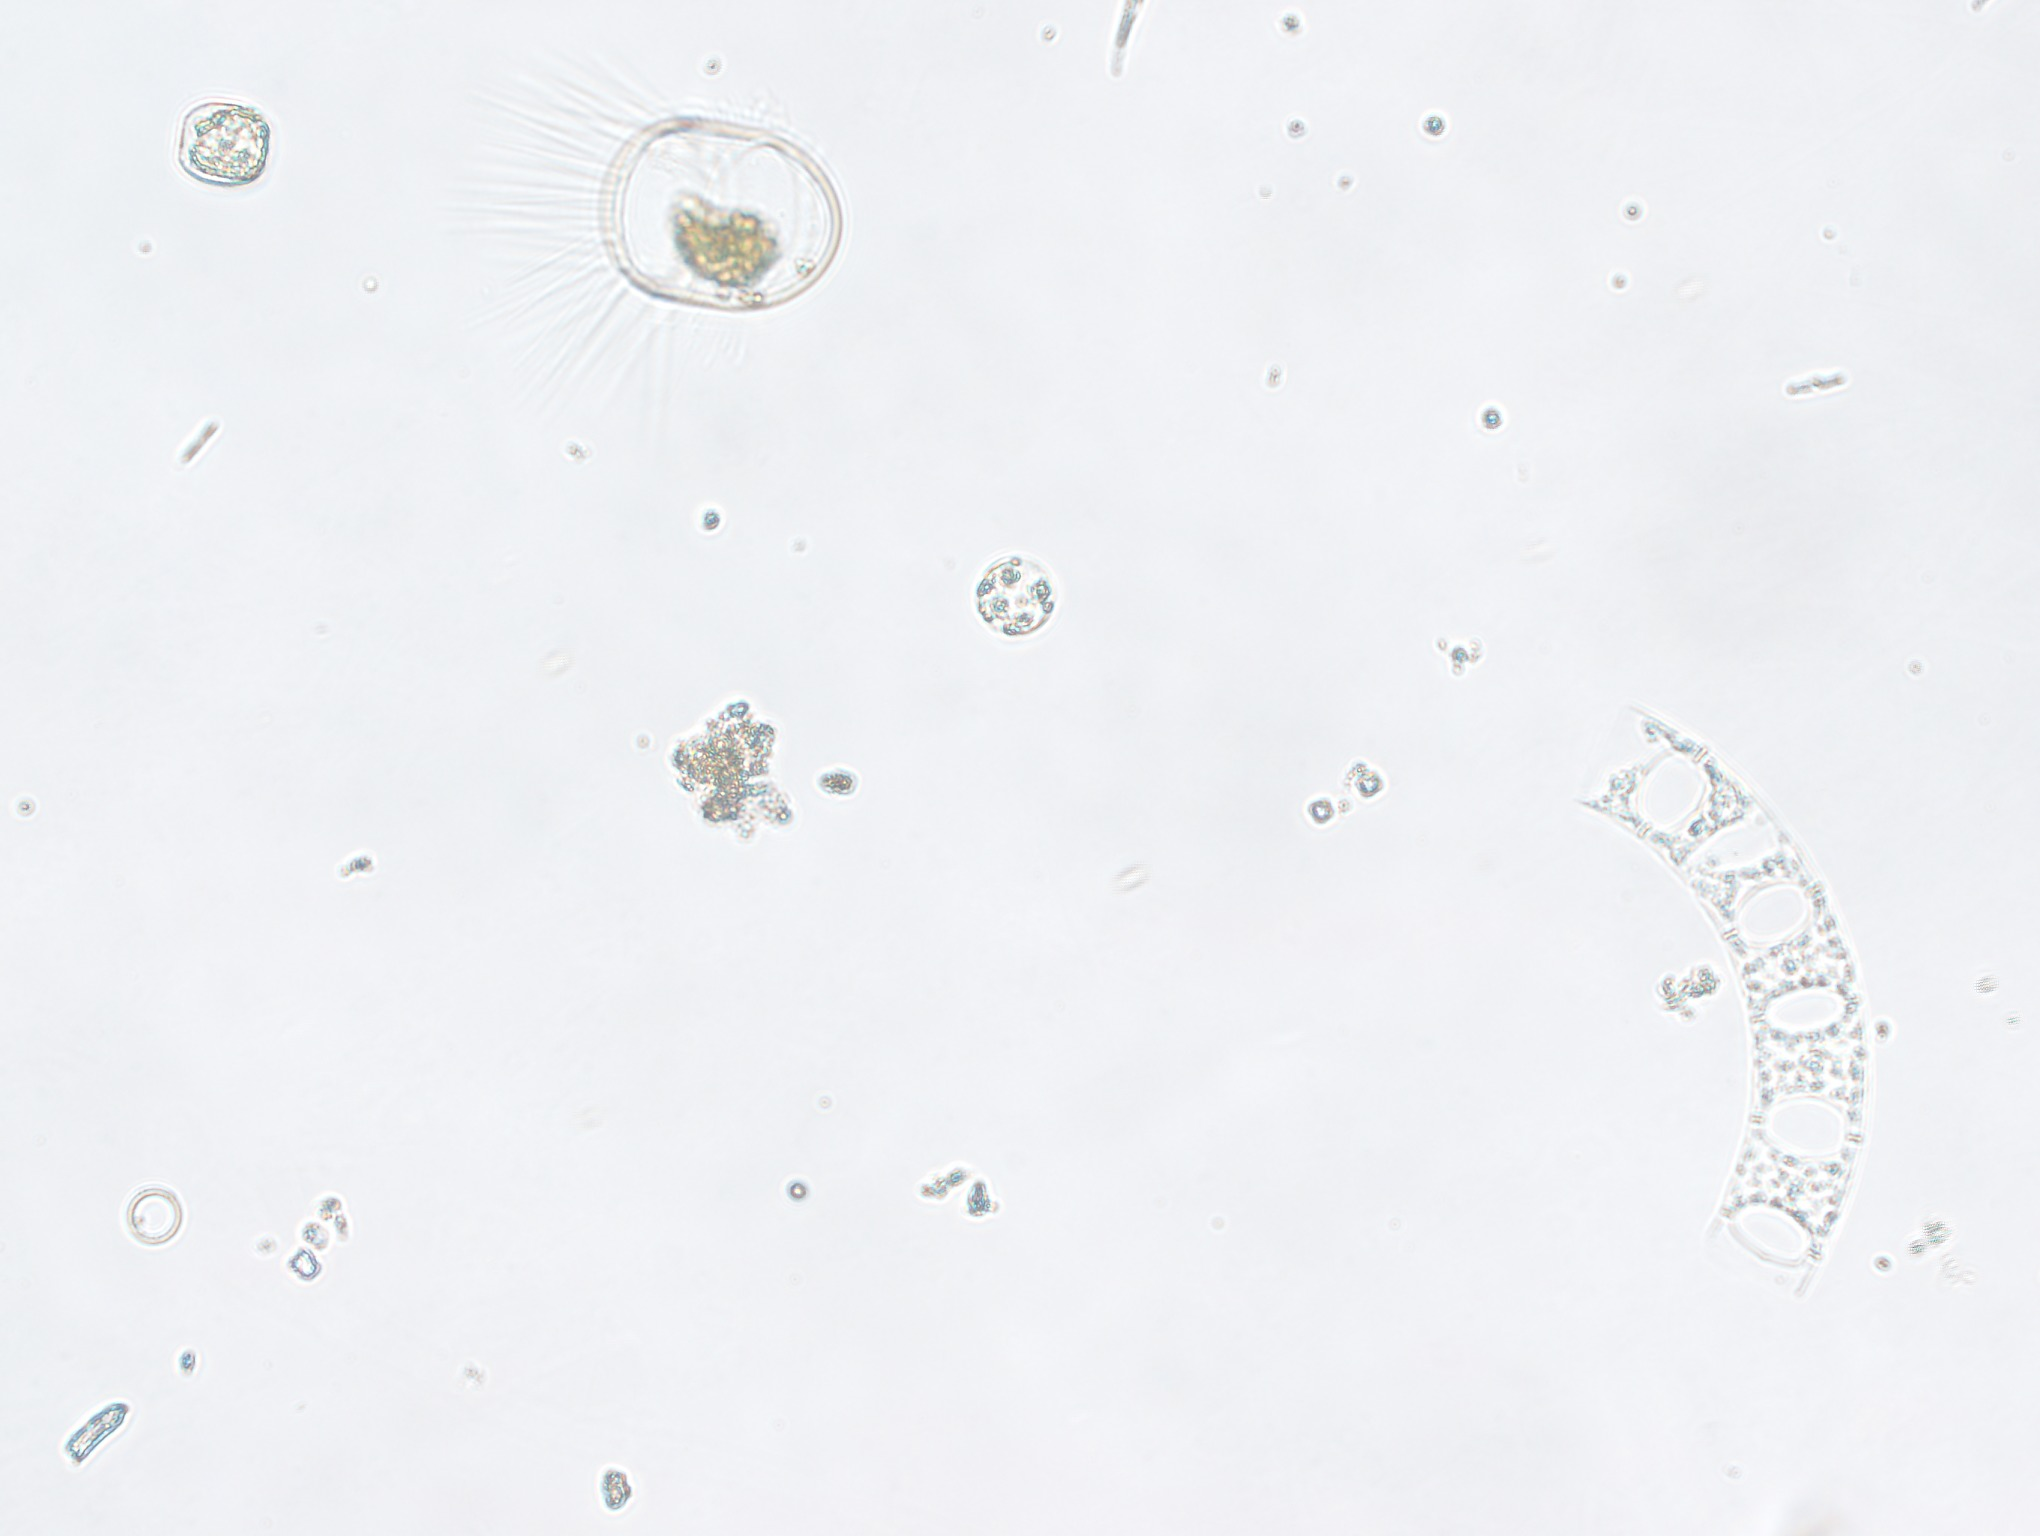corethron: (452, 39, 874, 403)
eucampia: (1579, 695, 1888, 1296)
